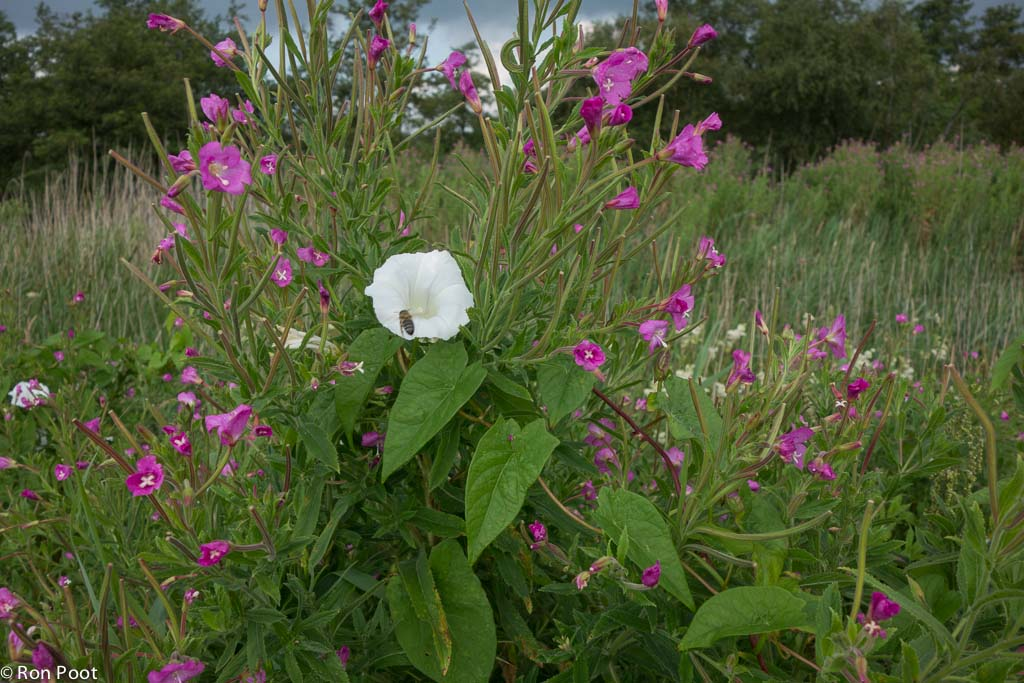haagwinde: (367, 536, 511, 683), (577, 481, 707, 622), (458, 400, 564, 565), (382, 334, 482, 488), (659, 577, 837, 653), (362, 244, 473, 339)
